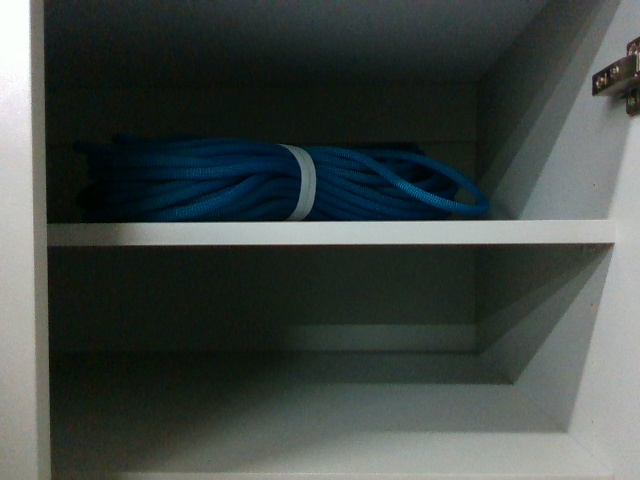rope: (161, 149, 498, 227)
